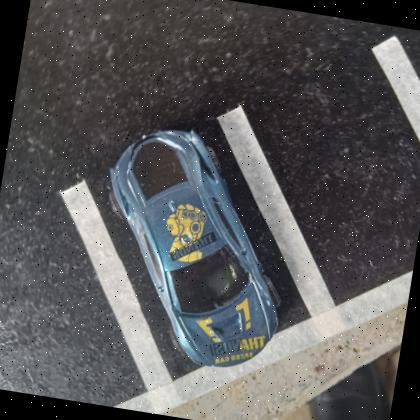Car: (109, 127, 282, 367)
